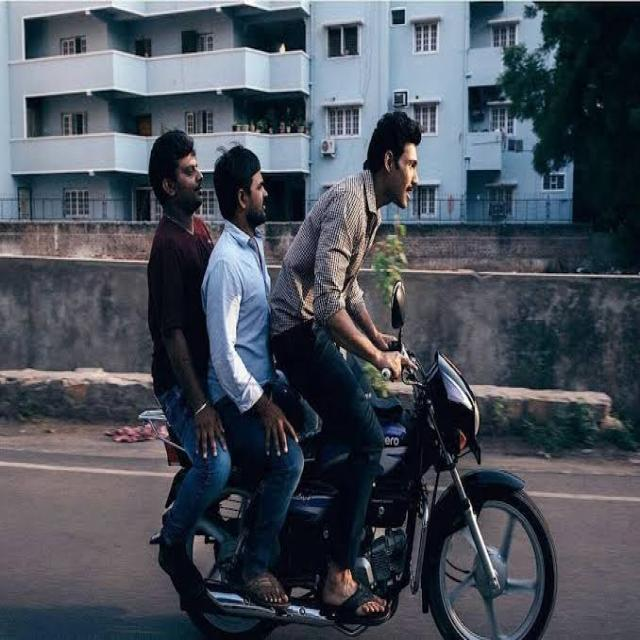triple_rider: (145, 113, 557, 640)
